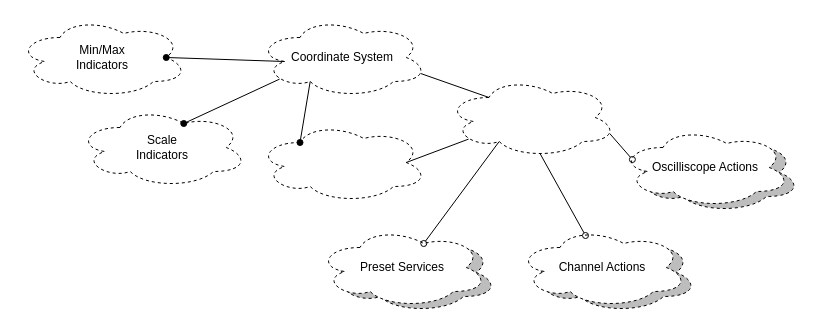
Some shapes in this 818 by 330 pixel diagram are drawn without their labels. Each missing label, with the centre of its shape:
"Channel" belongs at pixel 342 162.
"Control Panel" belongs at pixel 531 117.
